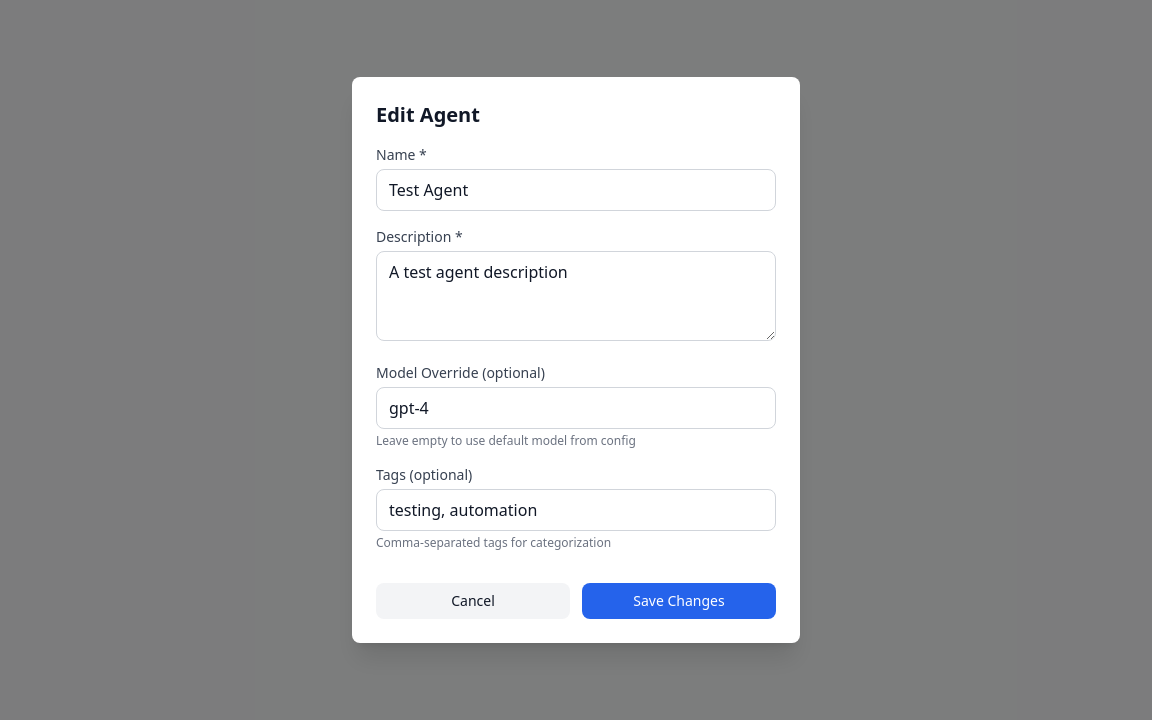
it: EditAgentModal › shows validation error when description is cleared
The width and height of the screenshot is (1152, 720).
Step 1. Clear the text box labelled "Description *" → (576, 296), box [376,251,776,341]
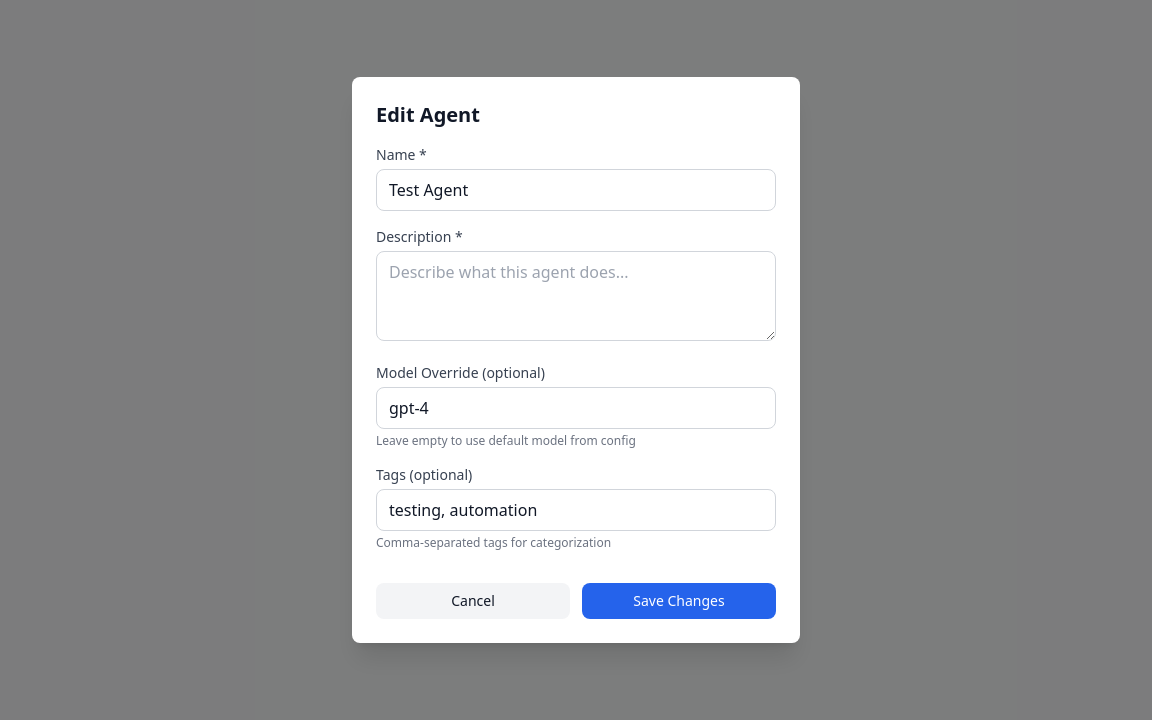
Step 2. Click the button "Save Changes" → (679, 601), box [582,583,776,619]
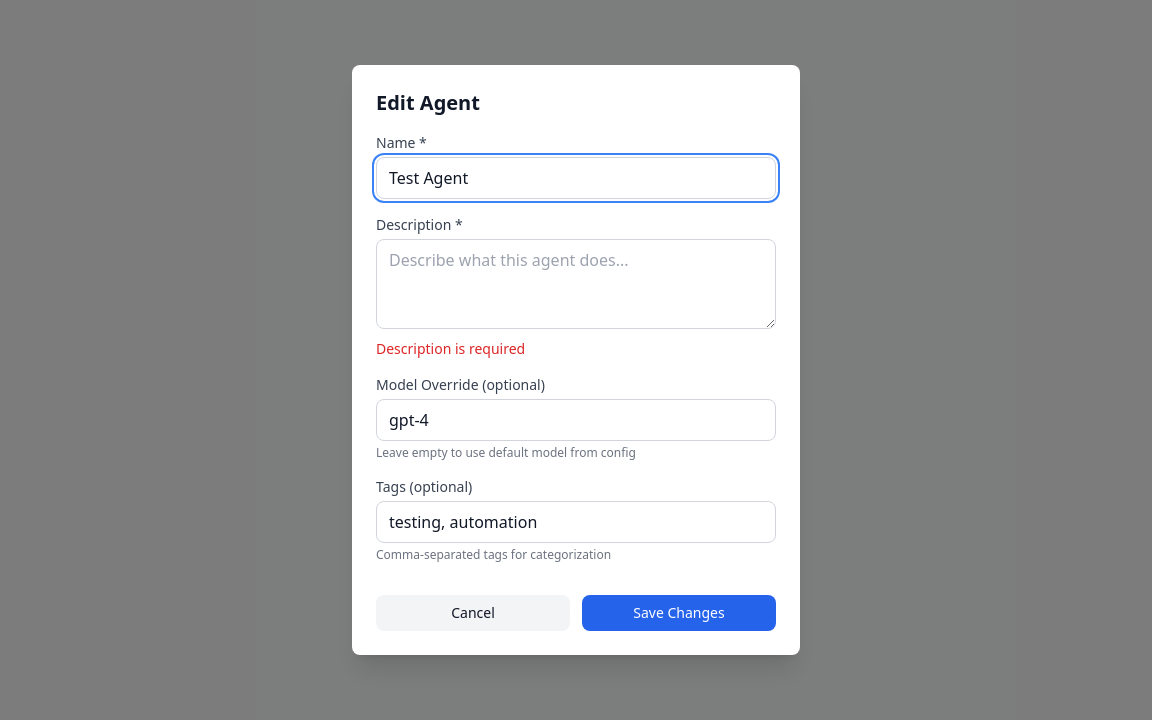
Expected: the text "Description is required" is shown, [376,339,525,358]
